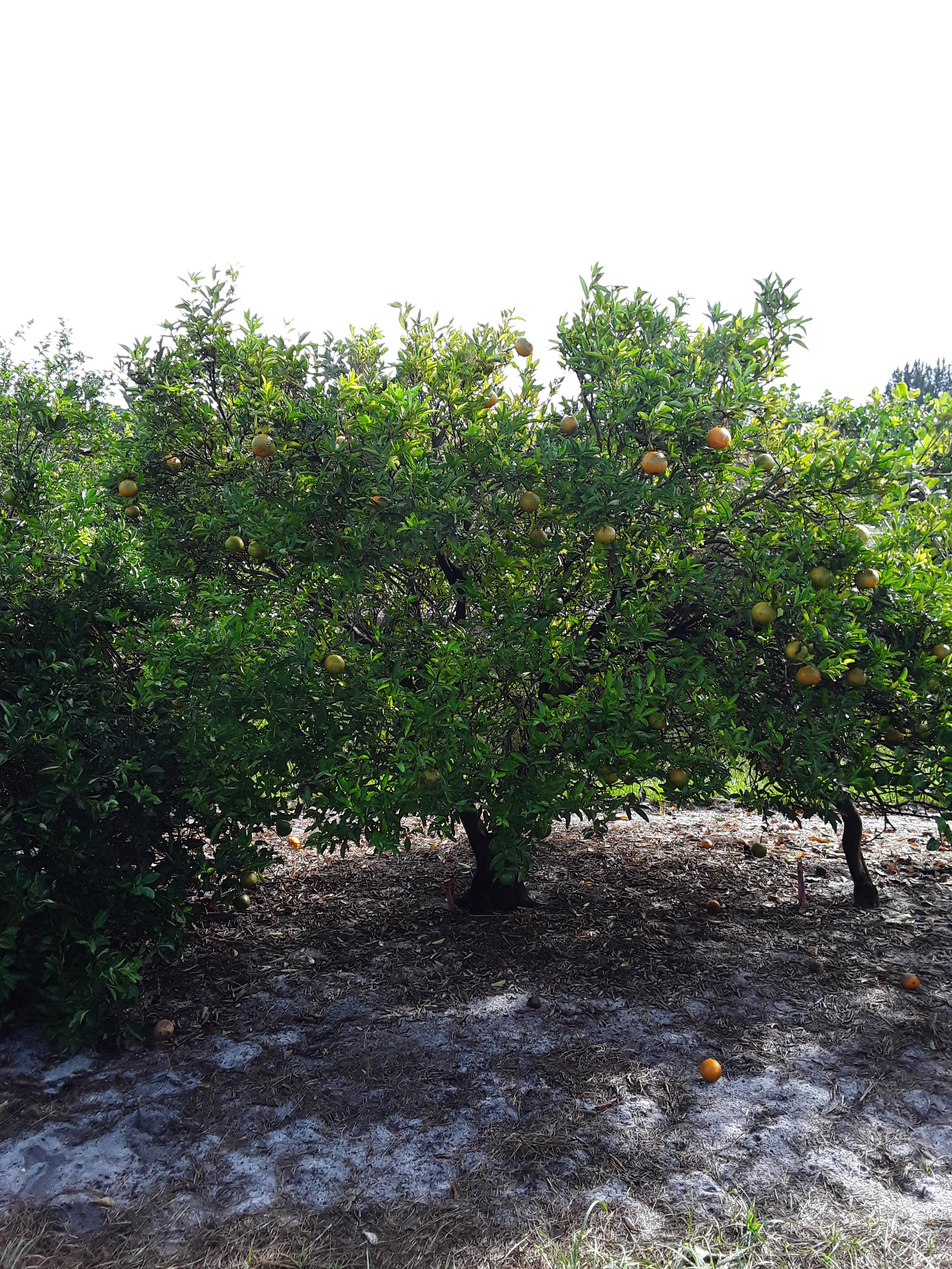fruit_on_ground: (704, 423, 734, 451), (840, 522, 871, 549), (749, 598, 778, 626), (639, 449, 669, 476), (249, 432, 278, 459), (807, 564, 834, 590), (795, 662, 822, 688), (416, 764, 444, 789), (854, 566, 880, 591), (236, 865, 261, 890), (783, 638, 808, 662), (246, 537, 271, 561), (845, 664, 870, 688), (322, 651, 347, 675), (517, 489, 542, 513), (750, 450, 776, 473), (592, 522, 618, 545), (160, 451, 185, 474), (228, 890, 252, 913), (187, 518, 211, 540), (116, 477, 140, 499), (666, 766, 690, 788), (597, 762, 620, 784), (644, 708, 667, 730), (222, 533, 245, 555), (558, 414, 580, 436), (512, 336, 535, 357), (527, 528, 548, 550), (478, 390, 500, 411), (930, 640, 951, 661), (368, 492, 390, 512), (120, 501, 142, 521), (914, 720, 934, 741), (273, 817, 294, 837), (884, 726, 905, 746), (495, 869, 516, 886), (750, 840, 769, 858), (750, 841, 769, 858), (2, 487, 19, 505), (50, 470, 61, 481)
fruit_on_tree: (149, 1016, 179, 1045), (697, 1054, 725, 1085), (900, 971, 922, 991), (703, 897, 724, 916), (803, 957, 824, 975), (525, 993, 544, 1011), (698, 833, 714, 849), (287, 834, 304, 849), (812, 865, 829, 879)
